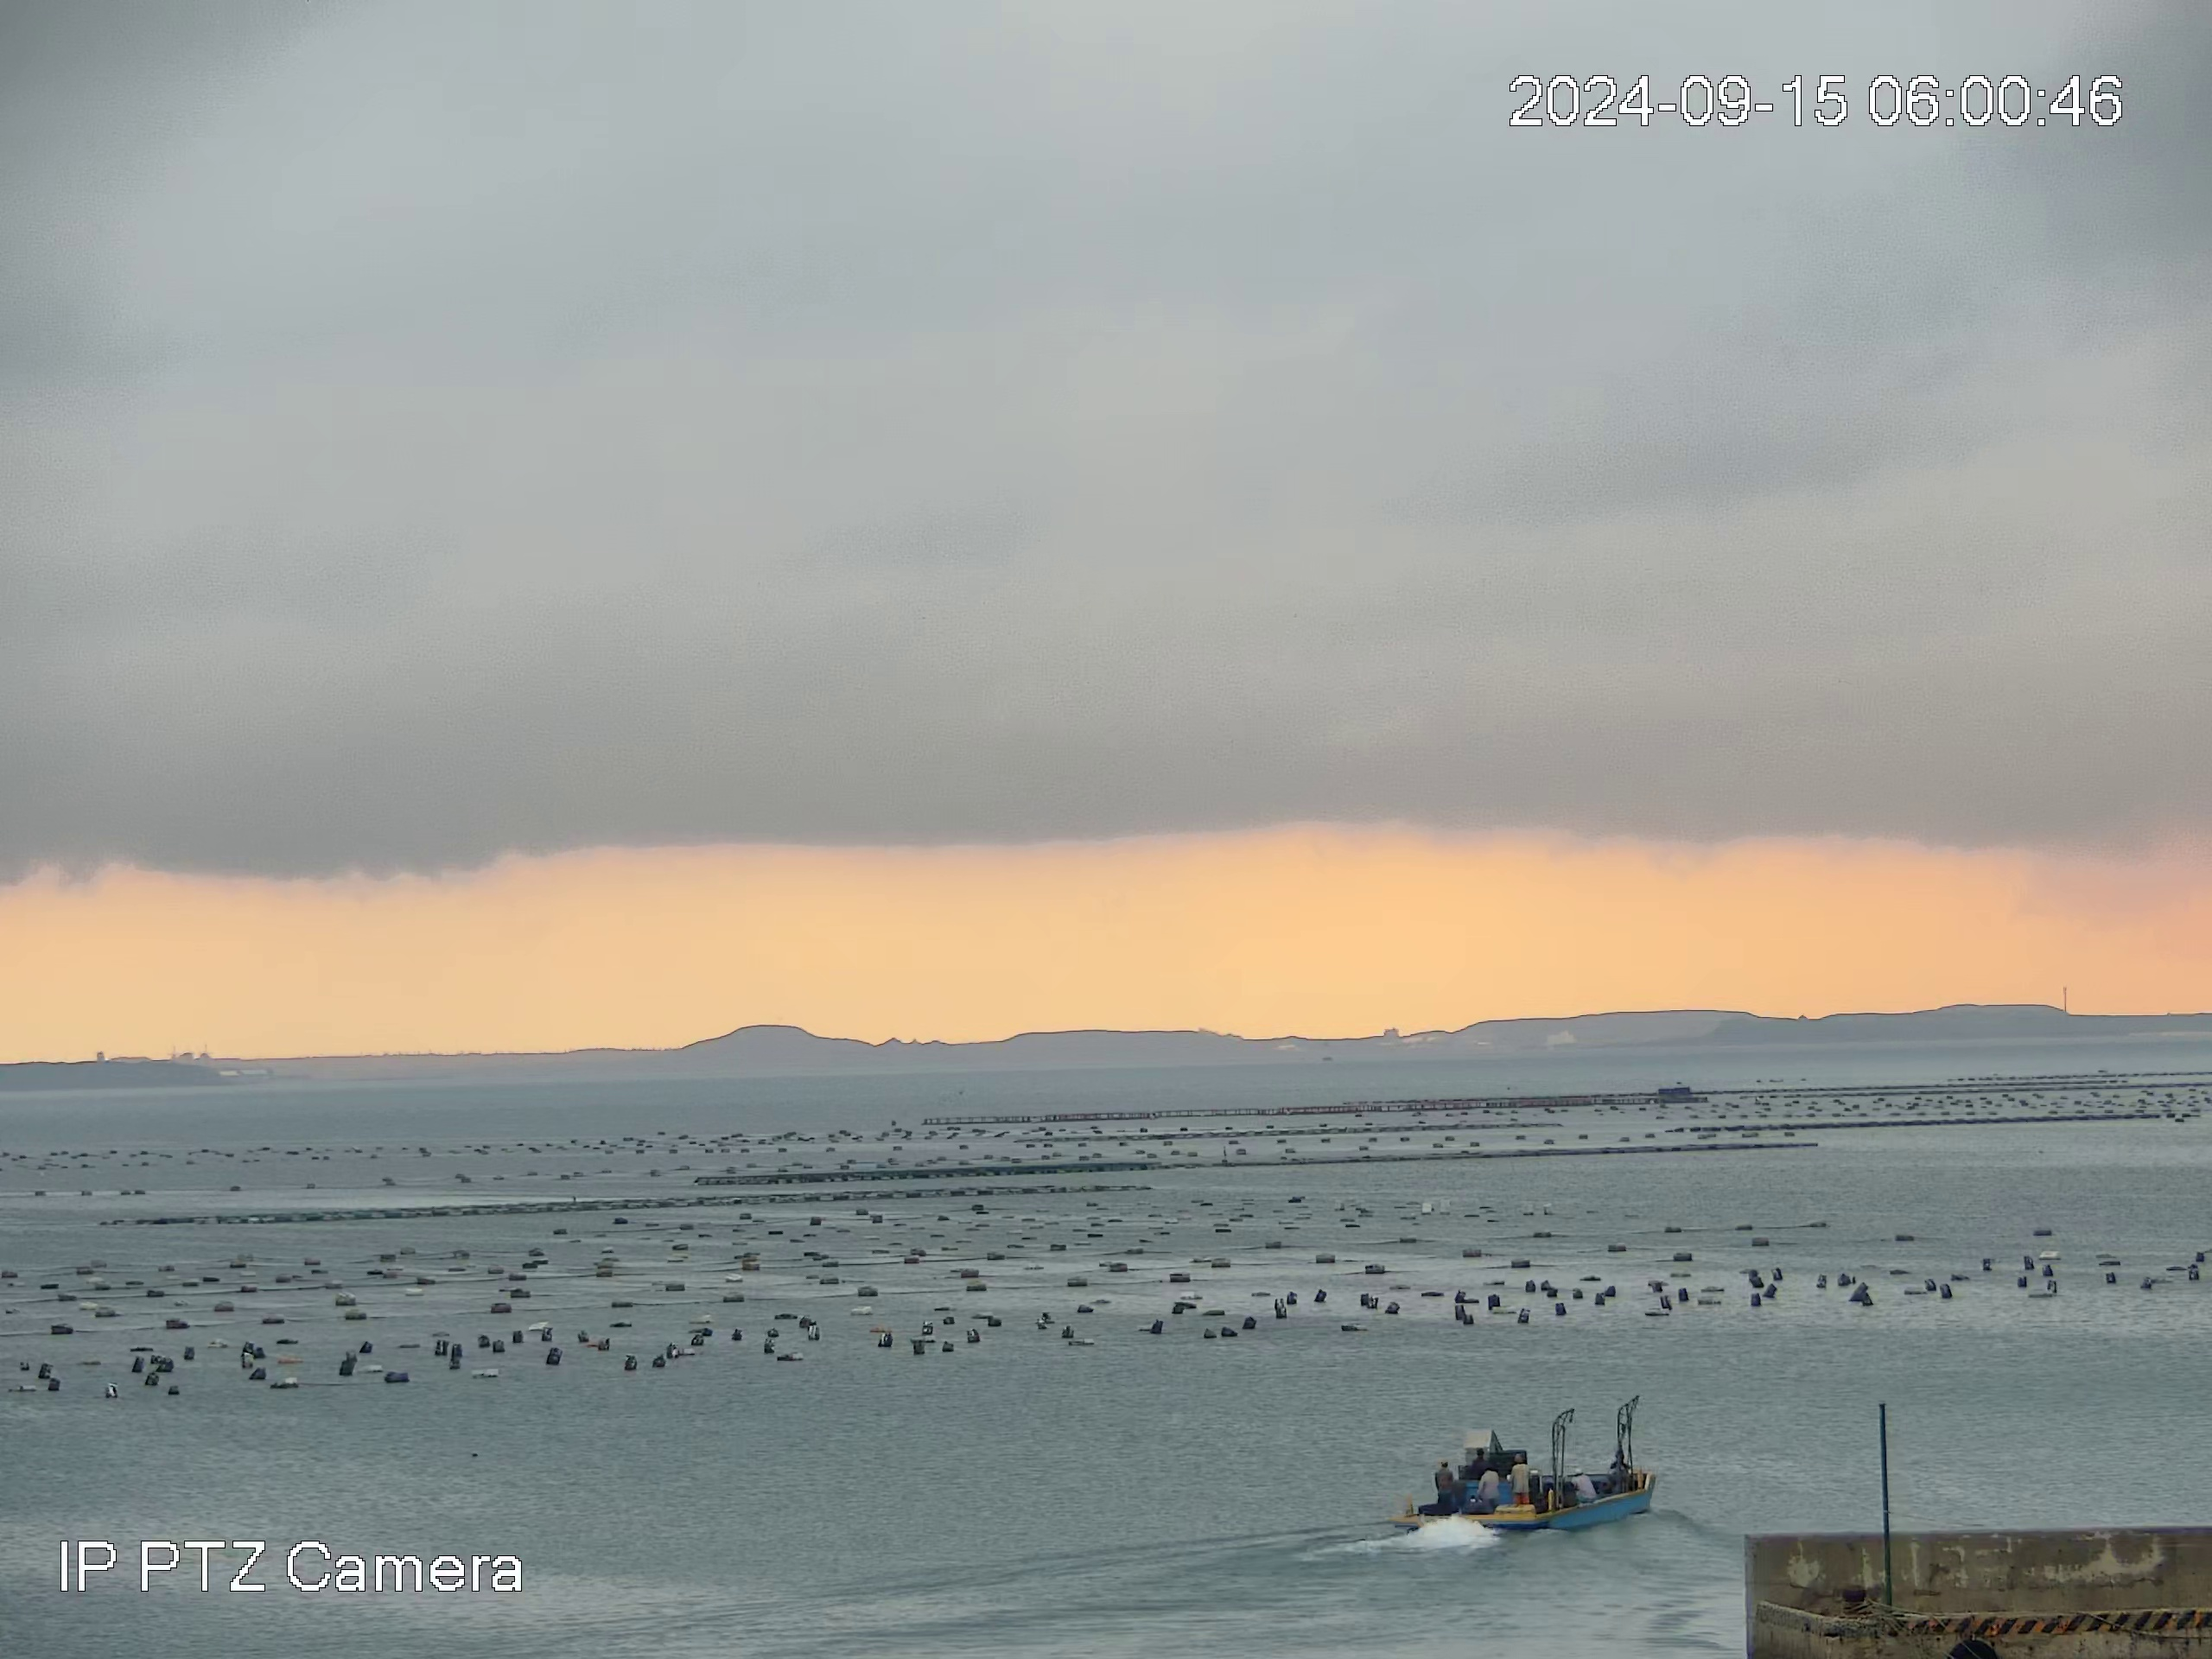boat: (1404, 1394, 1663, 1537)
